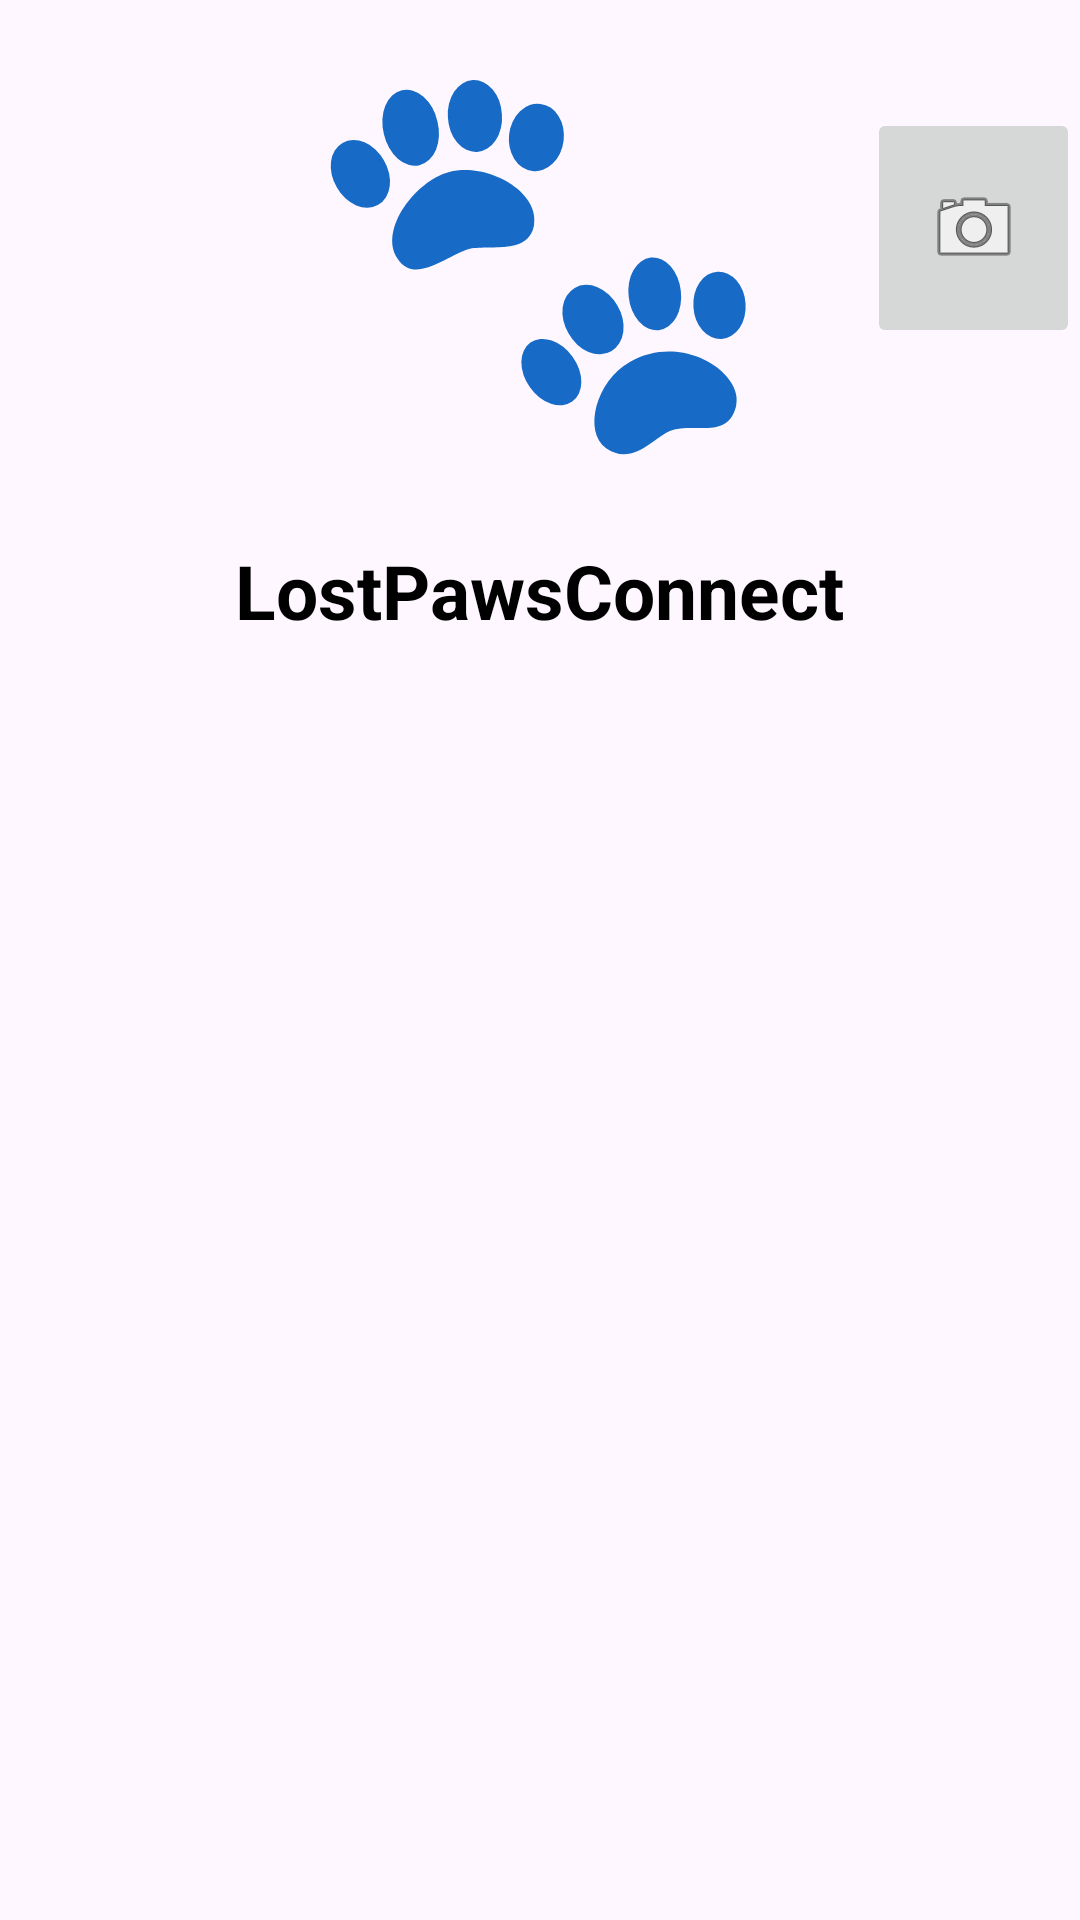

Where icons sit on this 1080px x 1920px app screen, as (x1, y1, x2, y2):
camera: (879, 126, 1068, 330)
